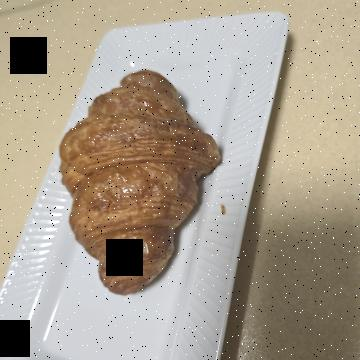croissant: (61, 125, 306, 304)
